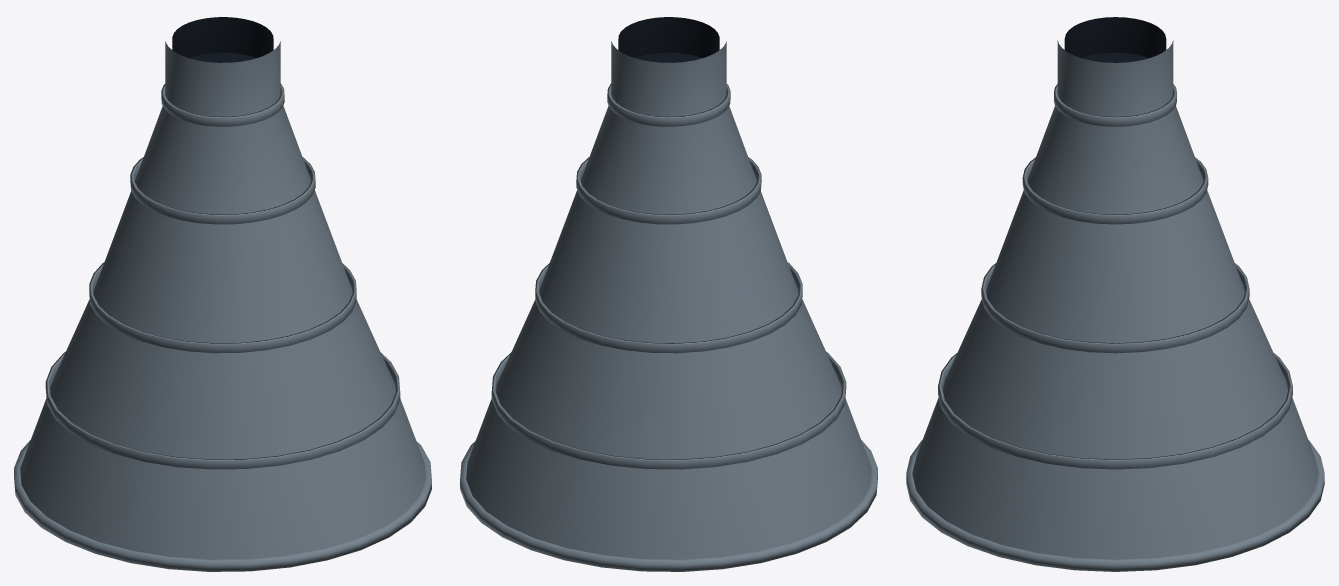
Rendered from falcon9_stage_2.merlin_vac.glb.
The picture shows the model from 3 angles, left to right: view 1: azimuth 30°, elevation 25°; view 2: azimuth 150°, elevation 25°; view 3: azimuth 270°, elevation 25°; orthographic projection.
Visible parts, largest first — view 1: falcon9_stage_2.merlin_vac.bell.mesh_Machined_steel, falcon9_stage_2.merlin_vac.bell.mesh_Shadowed_interior; view 2: falcon9_stage_2.merlin_vac.bell.mesh_Machined_steel, falcon9_stage_2.merlin_vac.bell.mesh_Shadowed_interior; view 3: falcon9_stage_2.merlin_vac.bell.mesh_Machined_steel, falcon9_stage_2.merlin_vac.bell.mesh_Shadowed_interior.
Part boxes in pixels (bbox=[...]): falcon9_stage_2.merlin_vac.bell.mesh_Machined_steel: bbox=[14, 41, 431, 571]; falcon9_stage_2.merlin_vac.bell.mesh_Shadowed_interior: bbox=[172, 17, 273, 62]; falcon9_stage_2.merlin_vac.bell.mesh_Machined_steel: bbox=[460, 41, 877, 571]; falcon9_stage_2.merlin_vac.bell.mesh_Shadowed_interior: bbox=[618, 17, 719, 62]; falcon9_stage_2.merlin_vac.bell.mesh_Machined_steel: bbox=[906, 40, 1324, 571]; falcon9_stage_2.merlin_vac.bell.mesh_Shadowed_interior: bbox=[1064, 17, 1166, 62].
Bounding box in the file's own units: 2.65 × 3.11 × 2.65.
